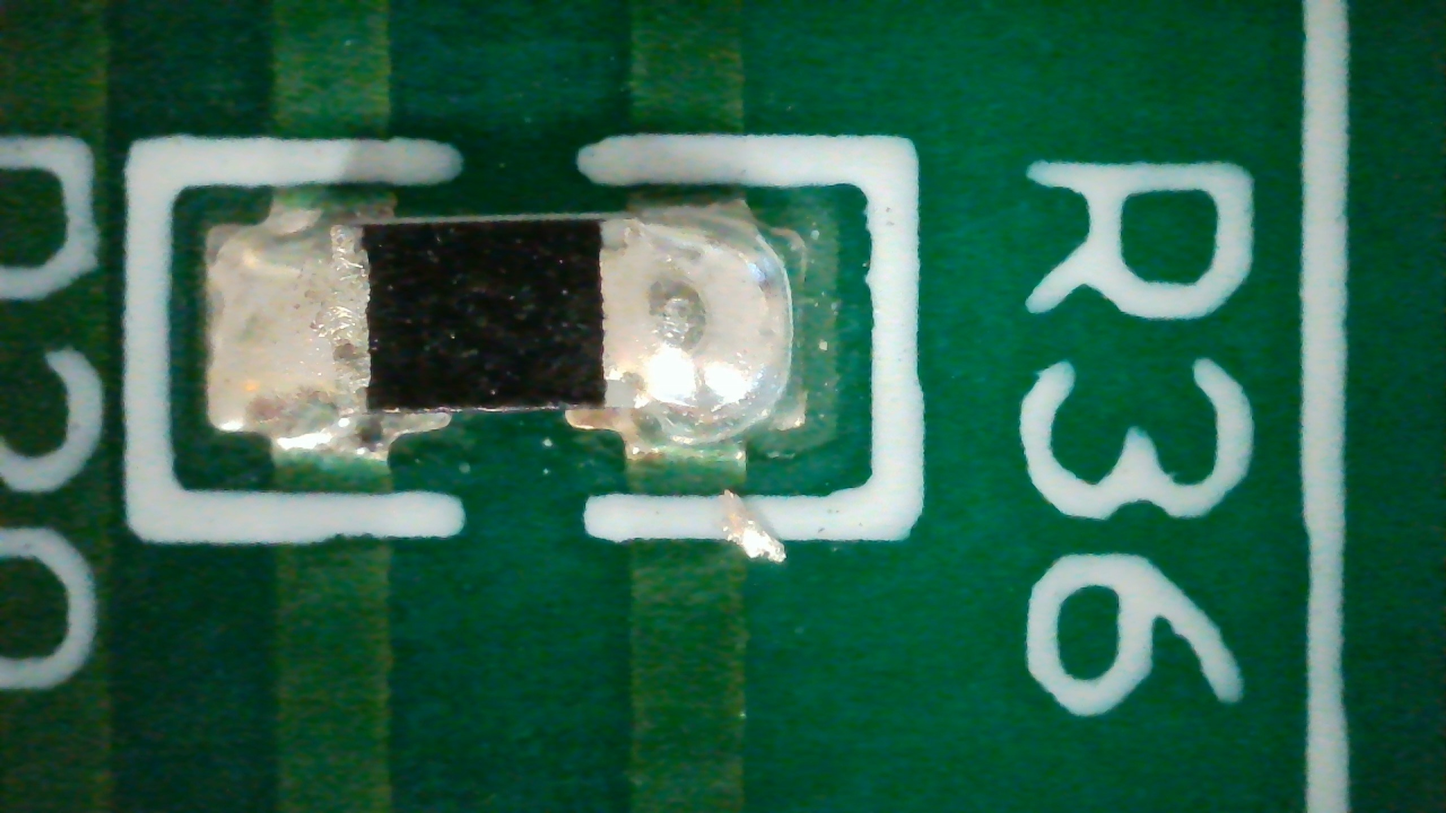OK: (205, 197, 796, 461)
